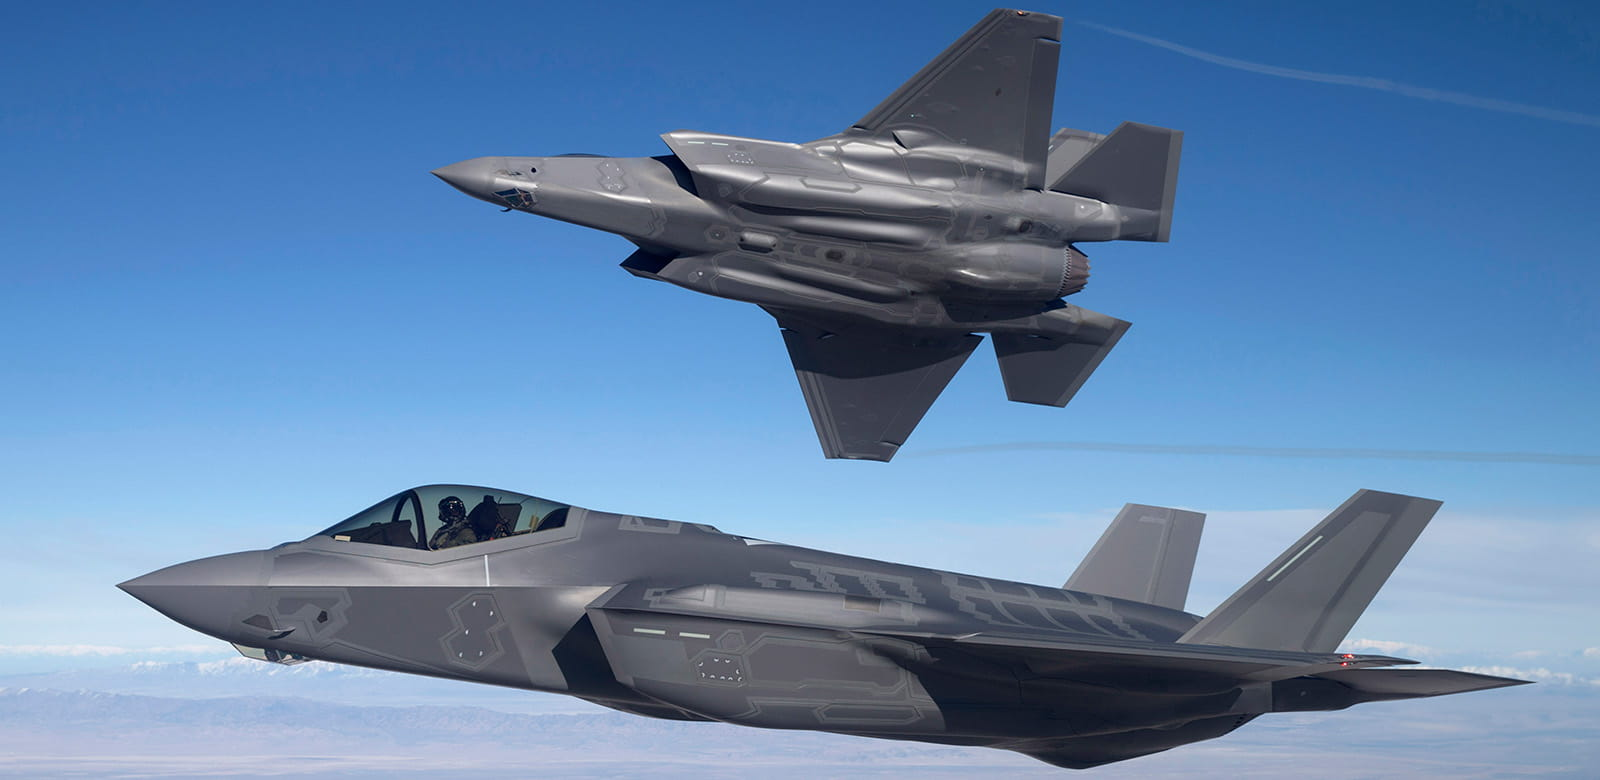F35: (107, 477, 1544, 776), (421, 4, 1196, 469)
